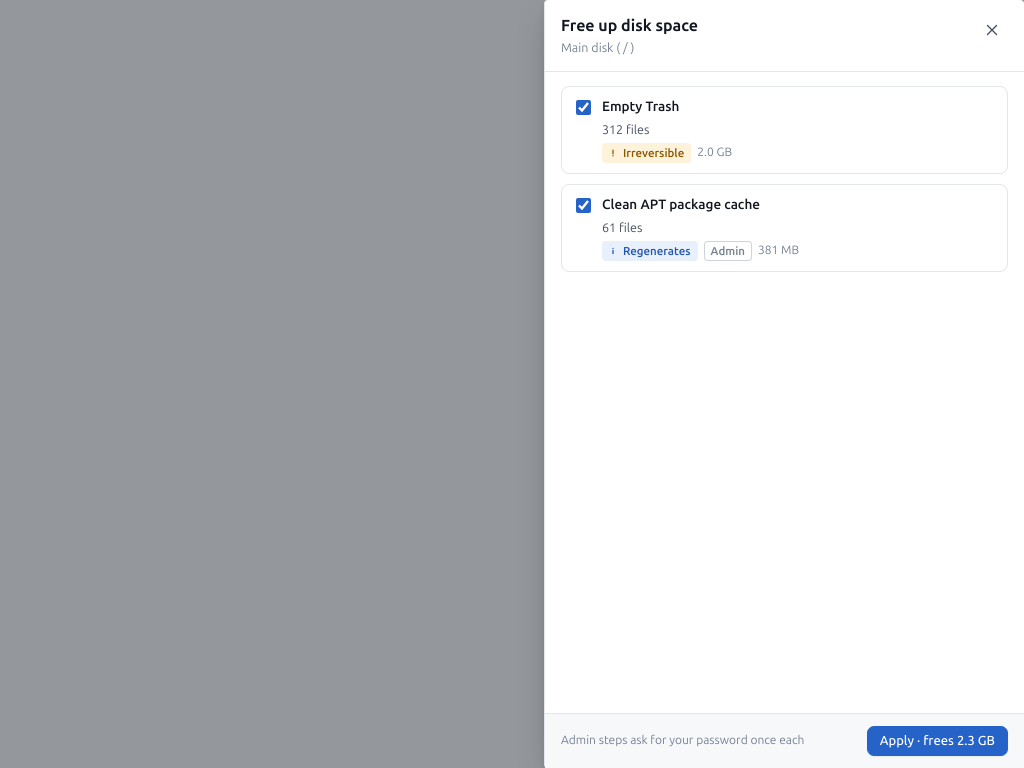
fix drawer › previews, lets steps be unticked, applies the rest, and verifies
Expected: the text "Empty Trash" is shown, 602,98 -> 679,115
Expected: the text "Irreversible" is shown, 602,143 -> 691,163
Click the checkbox named "Clean APT package cache": (584, 206) 576,198 -> 591,213
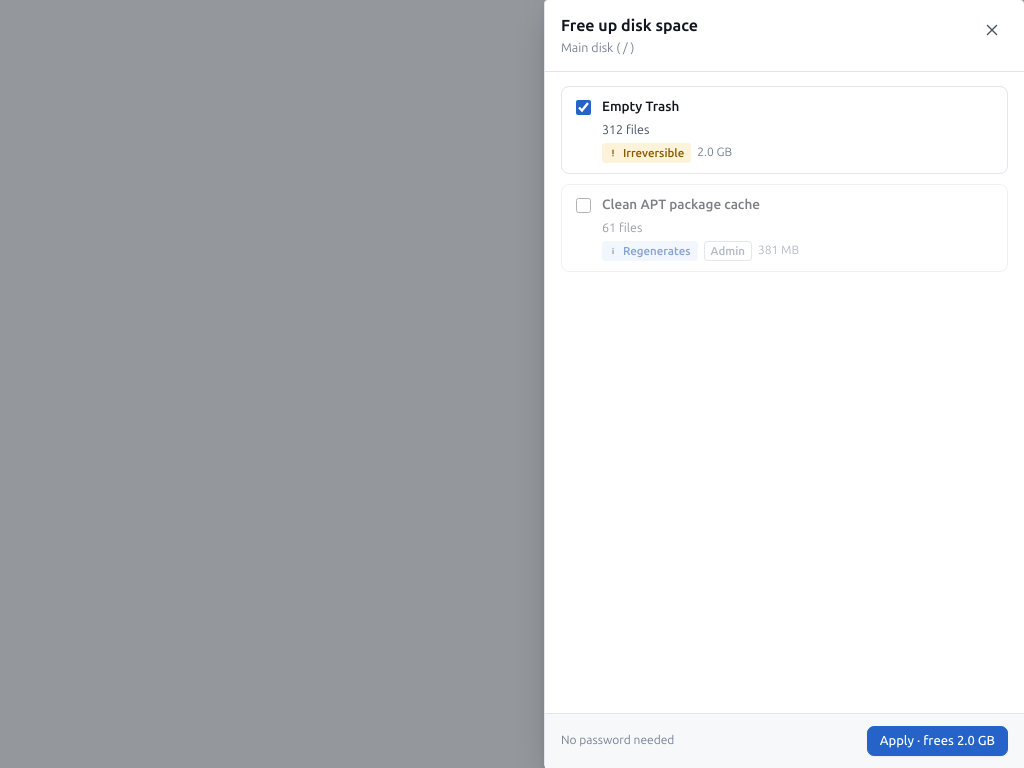
Expected: the text "No password needed" is shown, 561,732 -> 674,750
Click the button "Apply · frees 2.0 GB": (937, 741) 867,726 -> 1008,756
Wait 3000 ms
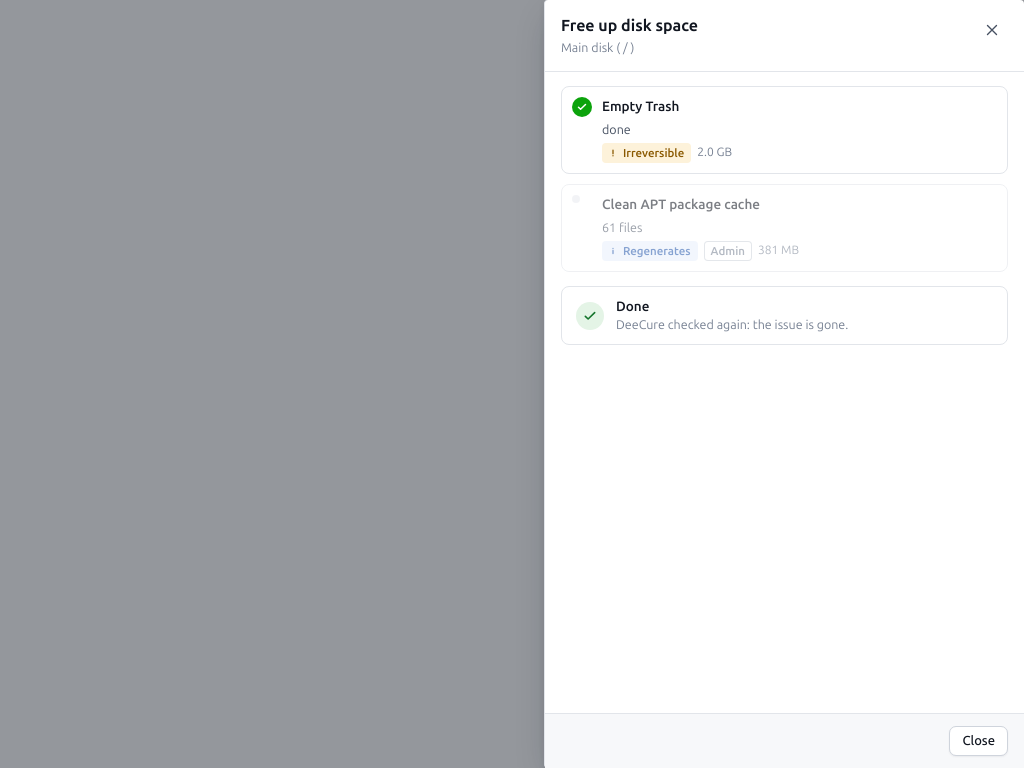
Expected: the text "DeeCure checked again: the issue is gone." is shown, 616,317 -> 848,332
